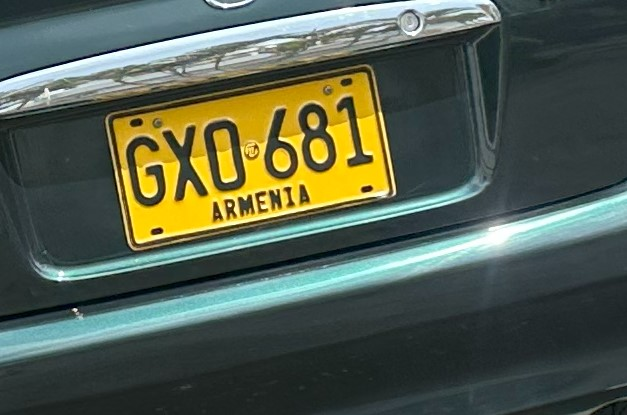number plate: (106, 66, 394, 249)
